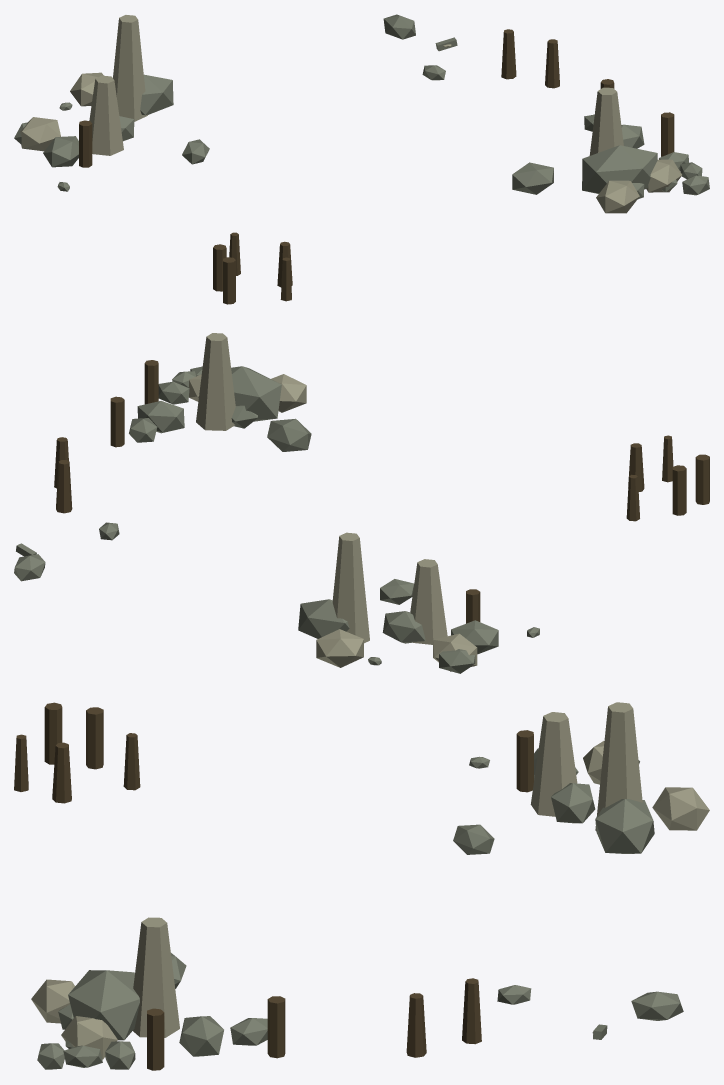
File: stone_sentinels_solid_props.fbx
3 renders of one model, top to bottom at view 1: azimuth 30°, elevation 25°; view 2: azimuth 150°, elevation 25°; view 3: azimuth 270°, elevation 25°, orthographic. The views are drawn at different scales.
Parts seen in each view (by area): view 1: chunk_stone_sentinels__PropsSolid; view 2: chunk_stone_sentinels__PropsSolid; view 3: chunk_stone_sentinels__PropsSolid.
Part boxes in pixels (x1,y1,x2,y2): chunk_stone_sentinels__PropsSolid: (14, 14, 709, 304); chunk_stone_sentinels__PropsSolid: (14, 333, 709, 673); chunk_stone_sentinels__PropsSolid: (14, 702, 709, 1070).
Size of the model in its own units: 173 by 36.58 by 161.
